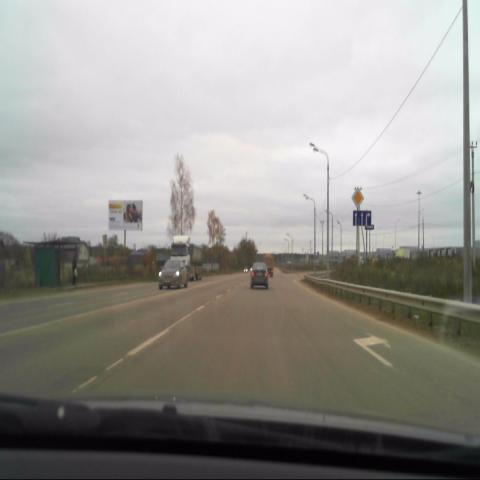5_15_1: (352, 209, 371, 226)
